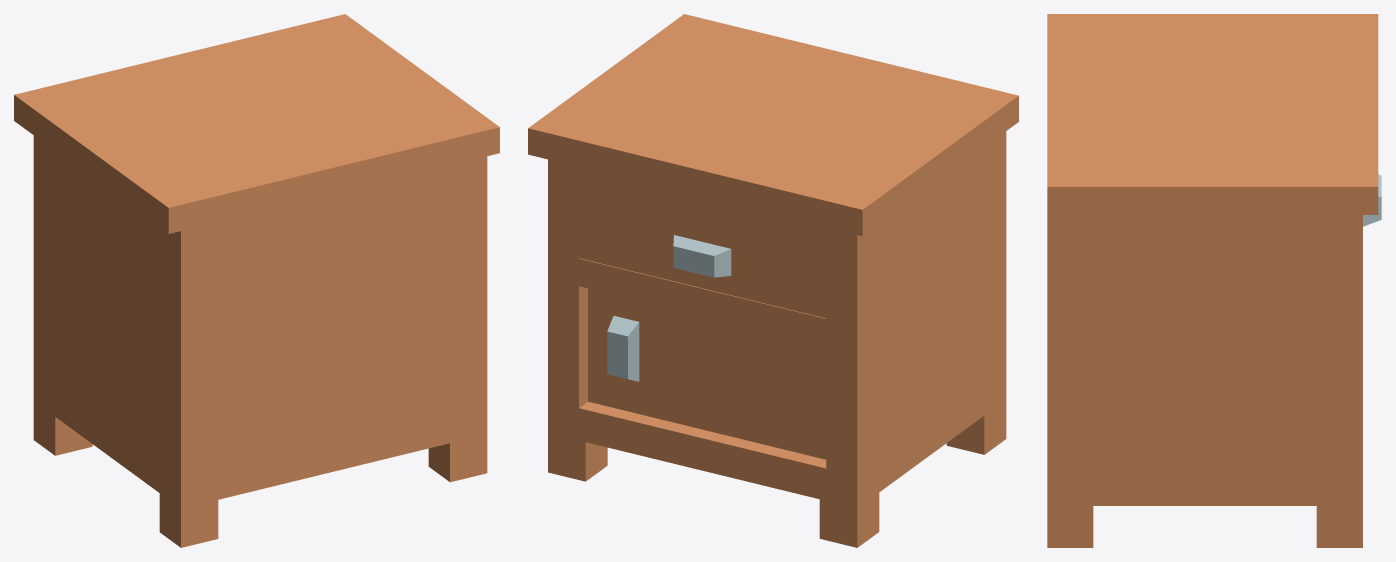
File: cabinetBedDrawer.dae
3 views of the same model, side by side, from view 1: azimuth 30°, elevation 25°; view 2: azimuth 150°, elevation 25°; view 3: azimuth 270°, elevation 25° (orthographic). The views are drawn at different scales.
Parts seen in each view (by area): view 1: cabinetBedDrawer; view 2: cabinetBedDrawer, door, drawer; view 3: cabinetBedDrawer.
Boxes of the visible parts, x1,y1,x2,y2 form: cabinetBedDrawer: (14, 14, 499, 547); cabinetBedDrawer: (528, 14, 1018, 547); door: (588, 288, 826, 459); drawer: (579, 192, 826, 318); cabinetBedDrawer: (1047, 14, 1378, 547).
Bounding box in the file's own units: 0.266 × 0.2632 × 0.2173.
